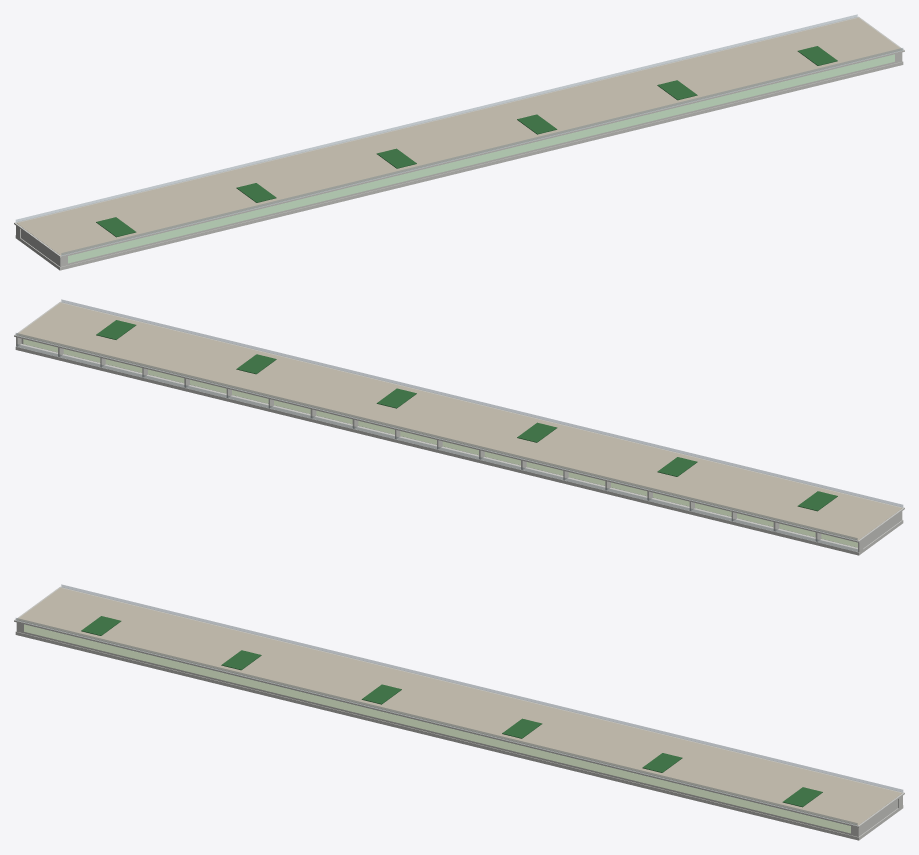
Rendered from sha_pit_upper.glb.
3 views of the same model, one above another, from view 1: azimuth 30°, elevation 25°; view 2: azimuth 150°, elevation 25°; view 3: azimuth 330°, elevation 25° (orthographic).
Parts seen in each view (by area): view 1: shanghai-pit-building; view 2: shanghai-pit-building; view 3: shanghai-pit-building.
Boxes of the visible parts, x1=… form: shanghai-pit-building: x1=14, y1=14, x2=904, y2=270; shanghai-pit-building: x1=14, y1=299, x2=904, y2=555; shanghai-pit-building: x1=14, y1=584, x2=904, y2=840.
Bounding box in the file's own units: 338 × 6.8 × 32.
